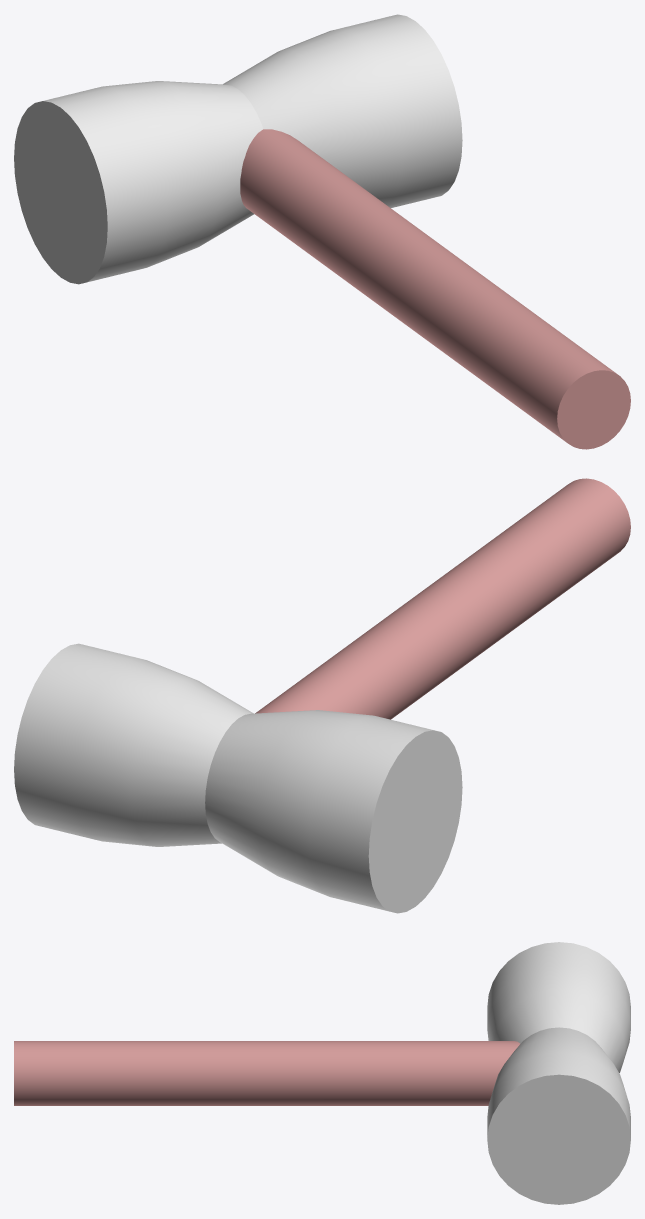
File: młotekdomjęsa.fbx
The picture shows the model from 3 angles, top to bottom: view 1: azimuth 30°, elevation 25°; view 2: azimuth 150°, elevation 25°; view 3: azimuth 270°, elevation 25°; orthographic projection. The views are drawn at different scales.
Visible parts, largest first — view 1: Cylinder; view 2: Cylinder; view 3: Cylinder.
Boxes of the visible parts, left/top/right/bottom form: Cylinder: left=14, top=14, right=630, bottom=449; Cylinder: left=14, top=478, right=630, bottom=913; Cylinder: left=14, top=942, right=630, bottom=1204.
Bounding box in the file's own units: 437 × 200 × 859.
